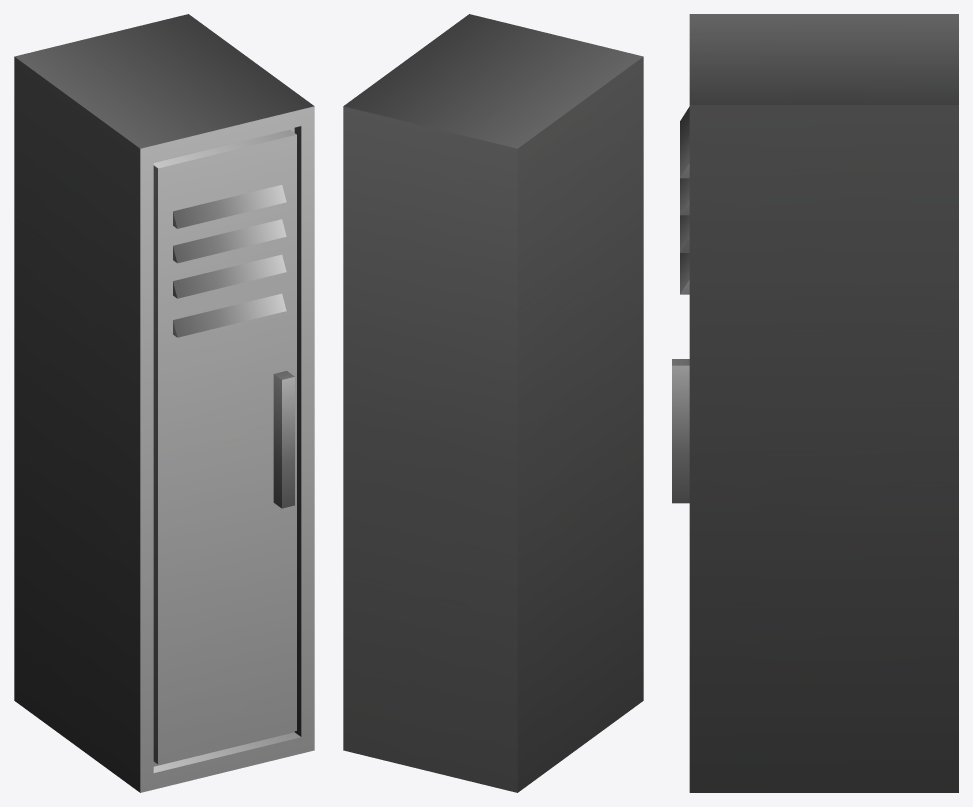
Rendered from Locker.fbx.
3 views of the same model, side by side, from view 1: azimuth 30°, elevation 25°; view 2: azimuth 150°, elevation 25°; view 3: azimuth 270°, elevation 25° (orthographic). The views are drawn at different scales.
Parts seen in each view (by area): view 1: Locker; view 2: Locker; view 3: Locker.
Part boxes in pixels (x1,y1,x2,y2): Locker: [14, 14, 314, 792]; Locker: [343, 14, 643, 792]; Locker: [672, 14, 958, 792].
Bounding box in the file's own units: 82.69 × 292 × 110.
1 material, 1 textured.
